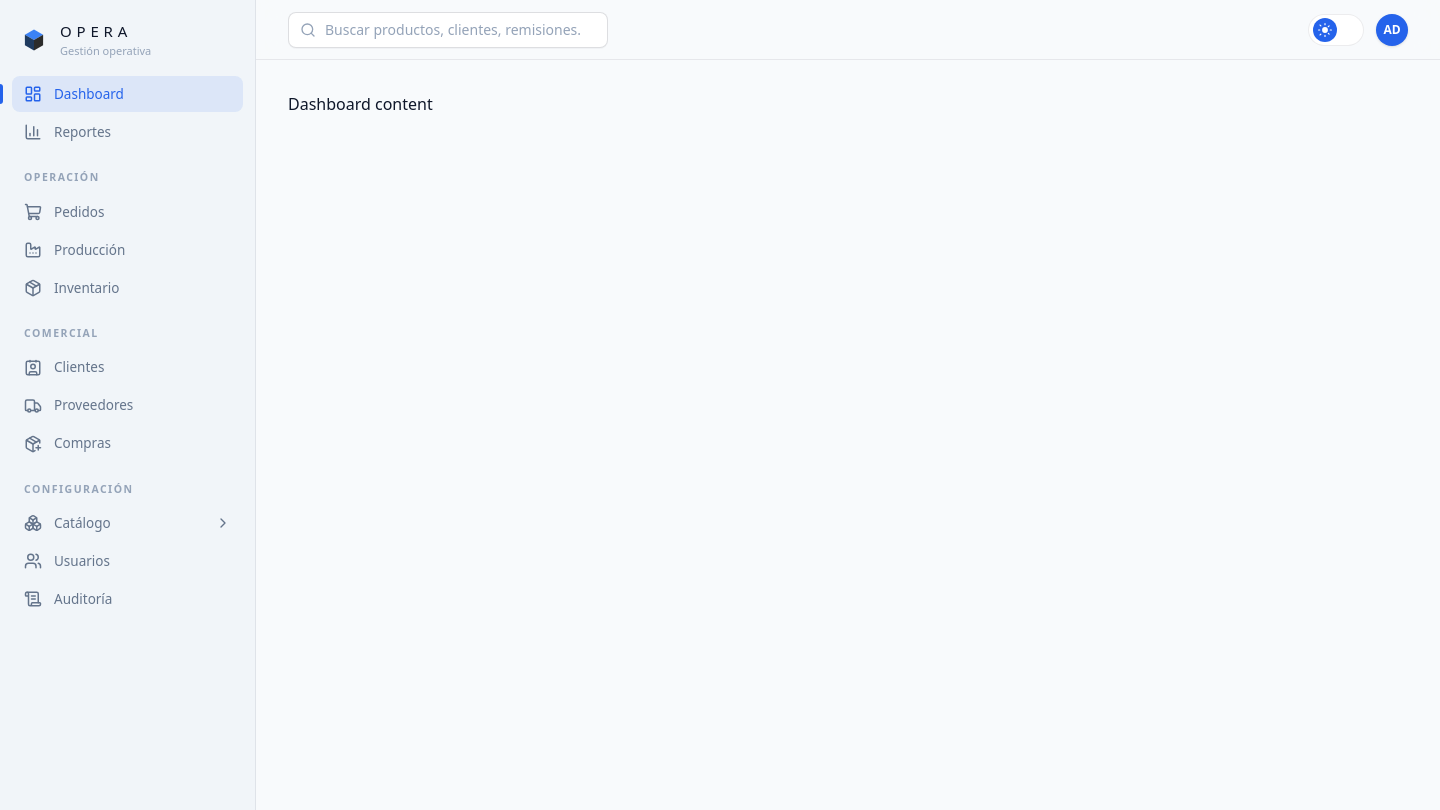
Test: AppLayout sidebar › expands the group on click, revealing its children
This screenshot has width=1440, height=810.
Click the button "Catálogo" at (128,523), box [12,505,243,541]
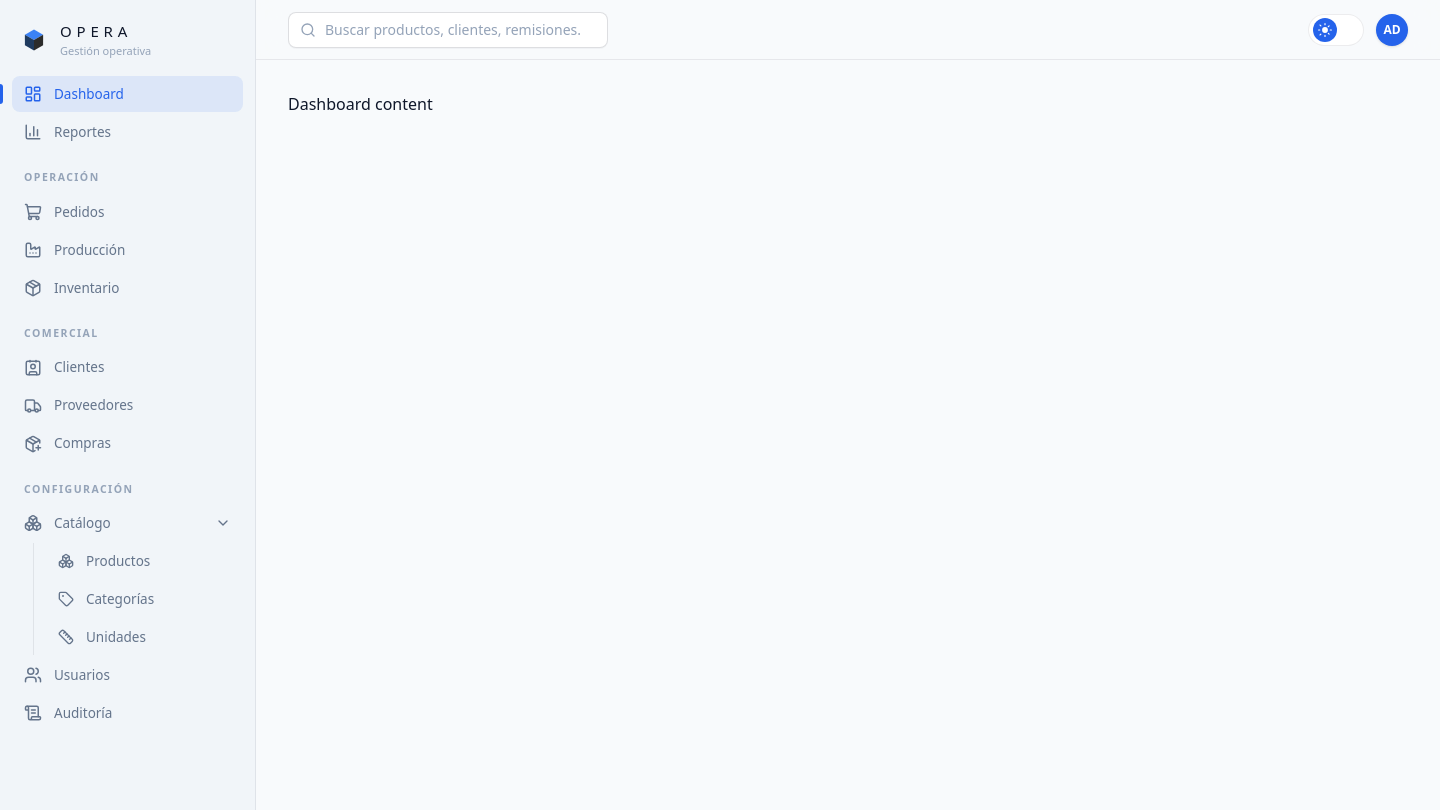
Expected: the button "Catálogo" is expanded, [12,505,243,541]
Expected: the link "Productos" is shown, [58,552,150,570]
Expected: the link "Categorías" is shown, [58,590,154,608]
